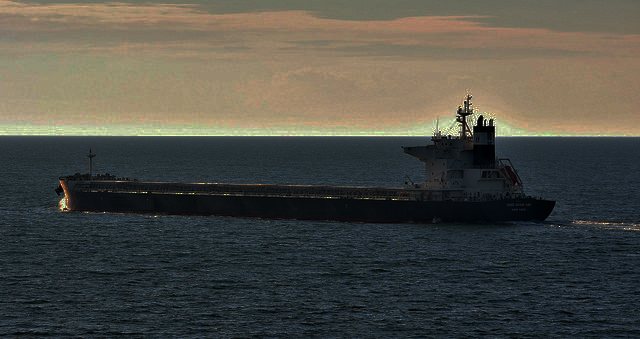bulk carrier: (55, 94, 558, 226)
